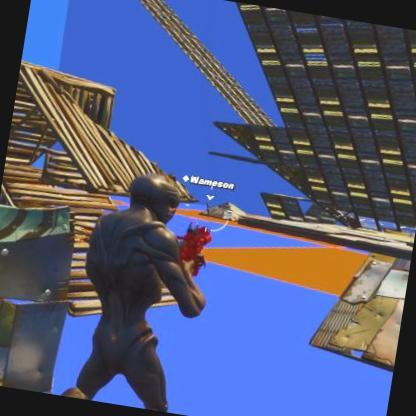person: (202, 200, 212, 219)
